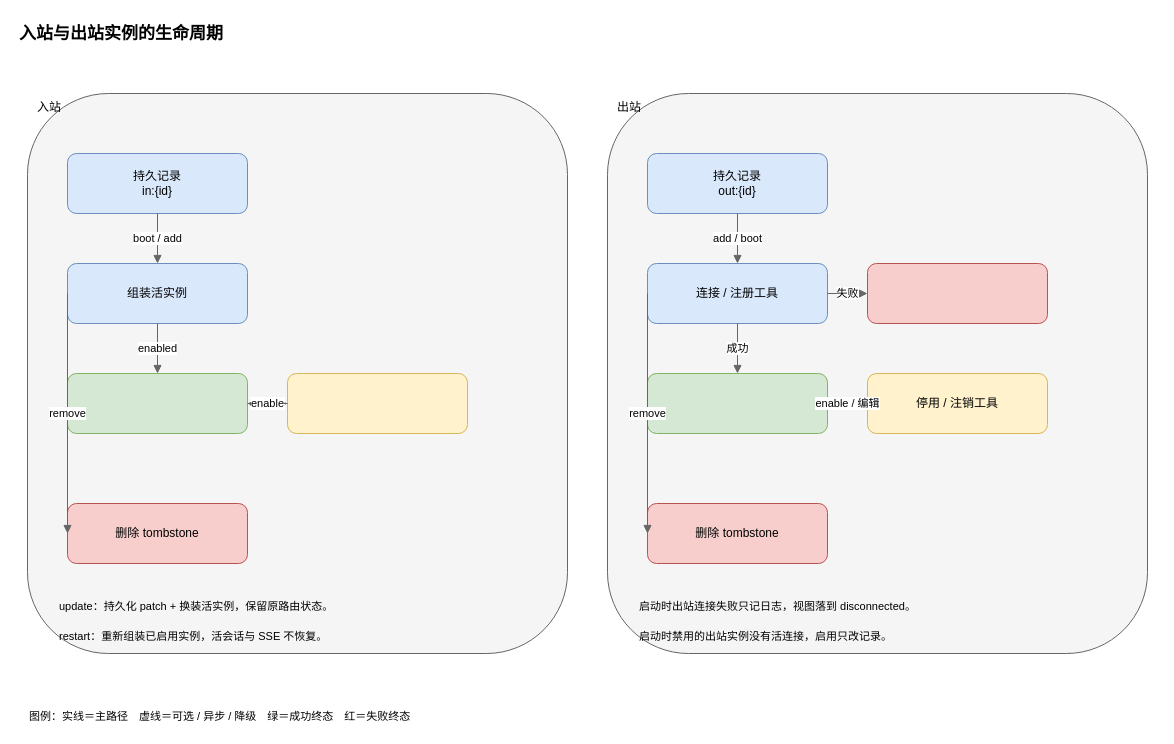
This 1174x744 diagram has some shape labels left out. Here are the shapes that lost their labels. From the top down, the centre of each, then its label:
(x=957, y=293): failed / disconnected
(x=157, y=403): 路由启用
(x=377, y=403): 路由停用
(x=737, y=403): connected
